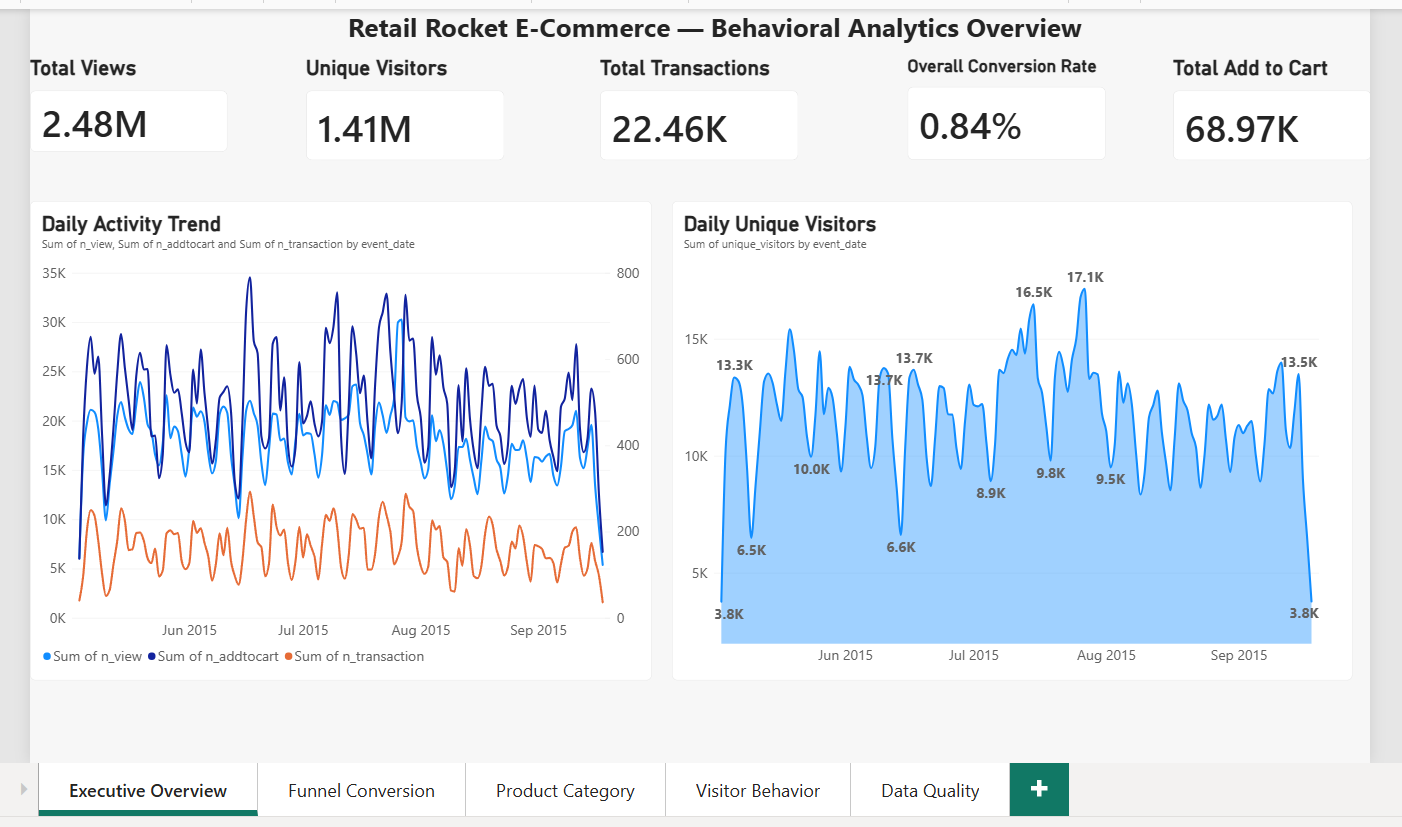

The dashboard page shown, as its layout file describes it:
{"tool":"powerbi","page":{"name":"Overview","canvas":[1920,1080],"ordinal":0},"visuals":[{"type":"textbox","box":[455.7,0,1085.6,66.8],"z":0},{"type":"cardVisual","title":"Total Views","fields":{"Data":["kpi_summary.Total Views"]},"box":[0,66.8,283.9,138.4],"z":1},{"type":"cardVisual","title":"Unique Visitors","fields":{"Data":["Sum(kpi_summary.unique_visitors)"]},"box":[396.1,66.8,284,150],"z":2},{"type":"cardVisual","title":"Total Transactions","fields":{"Data":["kpi_summary.Total Transactions"]},"box":[816,66.8,284,150],"z":3},{"type":"cardVisual","title":"Overall Conversion Rate","fields":{"Data":["kpi_summary.Conversion Rate Display"]},"box":[1257.4,66.8,284,150],"z":4},{"type":"cardVisual","title":"Total Add to Cart","fields":{"Data":["kpi_summary.Total Add to Cart"]},"box":[1636.7,66.8,284,150],"z":5},{"type":"lineChart","title":"Daily Activity Trend","fields":{"Y":["Sum(mart_overview_daily.n_view)"],"Category":["mart_overview_daily.event_date"],"Y2":["Sum(mart_overview_daily.n_addtocart)","Sum(mart_overview_daily.n_transaction)"]},"box":[0,275.6,890.7,686.5],"z":6},{"type":"areaChart","title":"Daily Unique Visitors","fields":{"Category":["mart_overview_daily.event_date"],"Y":["Sum(mart_overview_daily.unique_visitors)"]},"box":[920.2,275.6,974.4,686.5],"z":7}]}

Visuals, with their boxes on the page's 1920x1080 design canvas (x1, y1, x2, y2). These are canvas units, not pixel positions in the 1402x827 screenshot, which may show the page scaled, cropped or inside an application window:
textbox: x1=456 y1=0 x2=1541 y2=67
"Total Views" cardVisual: x1=0 y1=67 x2=284 y2=205
"Unique Visitors" cardVisual: x1=396 y1=67 x2=680 y2=217
"Total Transactions" cardVisual: x1=816 y1=67 x2=1100 y2=217
"Overall Conversion Rate" cardVisual: x1=1257 y1=67 x2=1541 y2=217
"Total Add to Cart" cardVisual: x1=1637 y1=67 x2=1921 y2=217
"Daily Activity Trend" lineChart: x1=0 y1=276 x2=891 y2=962
"Daily Unique Visitors" areaChart: x1=920 y1=276 x2=1895 y2=962
